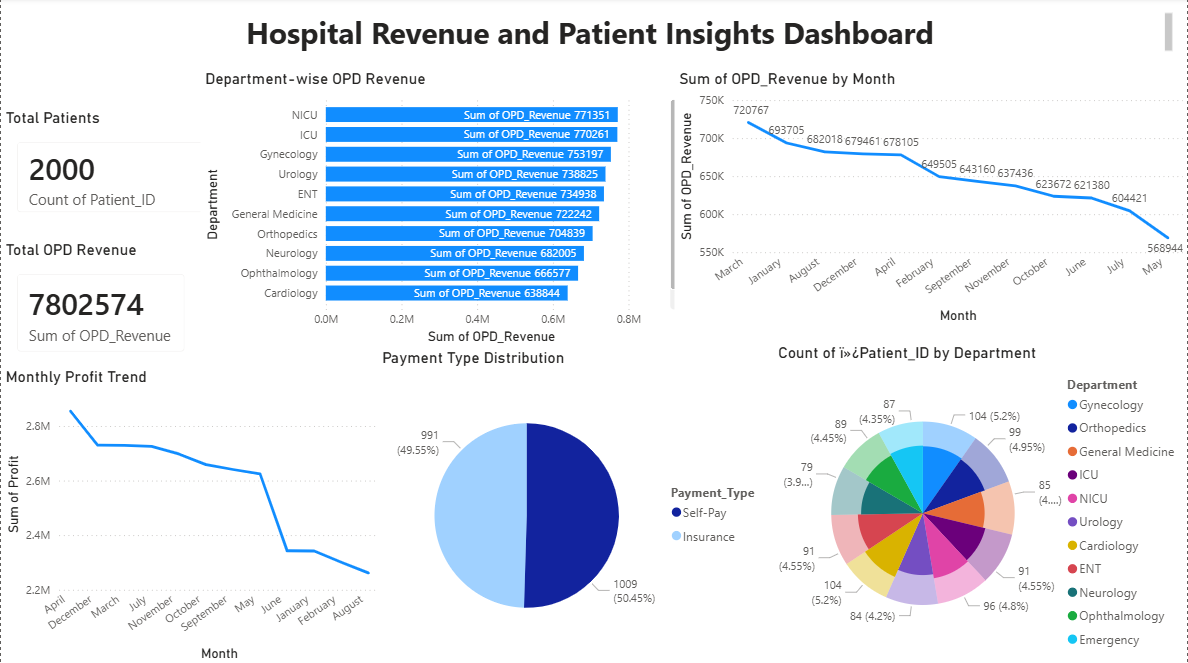

Layout of this report page (visuals, bound fields, positions):
{"tool":"powerbi","page":{"name":"Page 1","canvas":[1280,720],"ordinal":0},"visuals":[{"type":"cardVisual","title":"Total OPD Revenue","fields":{"Data":["Sum(hospital_analysis_project opd_analysis.OPD_Revenue)"]},"box":[9.7,149,215.4,137.6],"z":0},{"type":"cardVisual","title":"Total Patients","fields":{"Data":["CountNonNull(hospital_analysis_project opd_analysis.Patient_ID)"]},"box":[0,0,239.6,129.5],"z":1},{"type":"clusteredBarChart","title":"Department-wise OPD Revenue","fields":{"Category":["hospital_analysis_project opd_analysis.Department"],"Y":["Sum(hospital_analysis_project opd_analysis.OPD_Revenue)"]},"box":[215.4,77.7,519.8,301.2],"z":2},{"type":"lineChart","fields":{"Category":["hospital_analysis_project opd_analysis.Month"],"Y":["Sum(hospital_analysis_project opd_analysis.OPD_Revenue)"]},"box":[727,77.7,553.8,278.5],"z":3},{"type":"pieChart","title":" Payment Type Distribution","fields":{"Category":["hospital_analysis_project bed analysis 3.Payment_Type"],"Y":["CountNonNull(hospital_analysis_project bed analysis 3.ï»¿Patient_ID)"]},"box":[9.7,286.6,229.9,179.7],"z":4},{"type":"lineChart","title":"Monthly Profit Trend","fields":{"Category":["hospital_analysis_project bed analysis 3.Month"],"Y":["Sum(hospital_analysis_project bed analysis 3.Profit)"]},"box":[275.3,378.9,558.6,341.7],"z":5},{"type":"pieChart","fields":{"Y":["CountNonNull(hospital_analysis_project bed analysis 3.ï»¿Patient_ID)"],"Category":["hospital_analysis_project bed analysis 3.Department"]},"box":[833.9,374,446.9,346.5],"z":6},{"type":"textbox","box":[309.3,11.3,960.2,51.8],"z":7},{"type":"slicer","fields":{"Values":["hospital_analysis_project opd_analysis.Department"]},"box":[9.7,466.3,229.9,254.2],"z":8}]}

Visuals, with their boxes in screenshot pixels (x1, y1, x2, y2), scaled from the page's 1280x720 canvas onto the 1188x663 screenshot:
"Total OPD Revenue" cardVisual: 9,137,209,264
"Total Patients" cardVisual: 0,0,222,119
"Department-wise OPD Revenue" clusteredBarChart: 200,72,682,349
lineChart - hospital_analysis_project opd_analysis.Month x Sum(hospital_analysis_project opd_analysis.OPD_Revenue): 675,72,1187,328
" Payment Type Distribution" pieChart: 9,264,222,429
"Monthly Profit Trend" lineChart: 256,349,774,662
pieChart - CountNonNull(hospital_analysis_project bed analysis 3.ï»¿Patient_ID) x hospital_analysis_project bed analysis 3.Department: 774,344,1187,662
textbox: 287,10,1178,58
slicer - hospital_analysis_project opd_analysis.Department: 9,429,222,662
